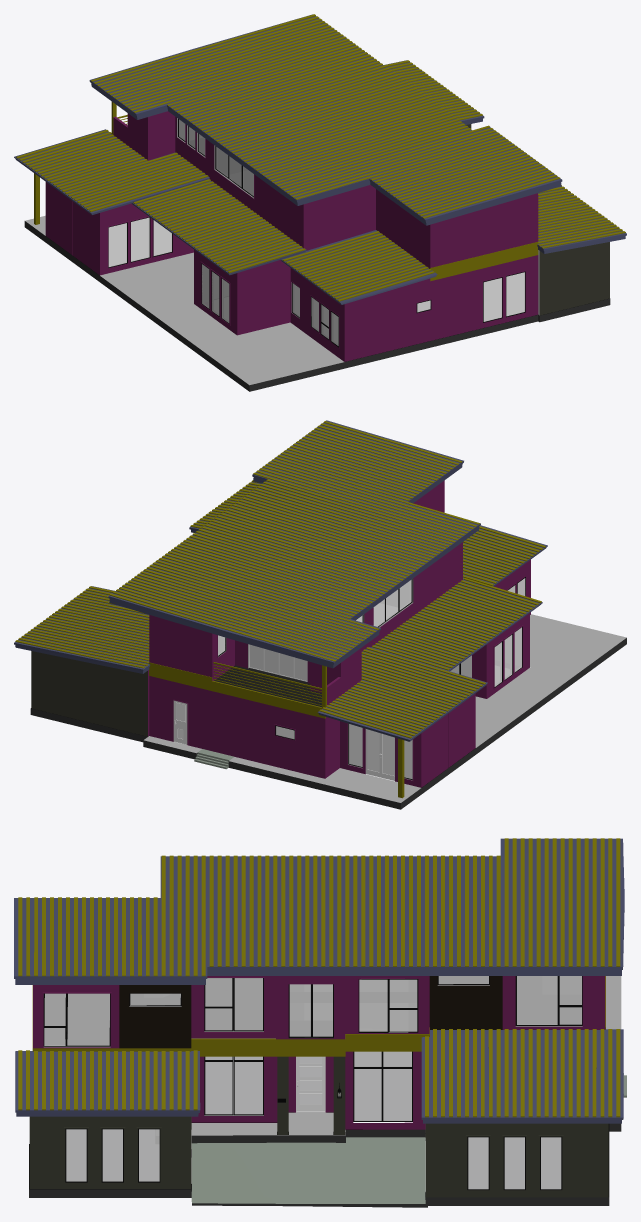
The model's file is BH_variant_5.glb.
3 renders of one model, top to bottom at view 1: azimuth 30°, elevation 25°; view 2: azimuth 150°, elevation 25°; view 3: azimuth 270°, elevation 25°, orthographic. The views are drawn at different scales.
Visible parts, largest first — view 1: ROOF.001, LF_EXT.001, TF_EXT.001, portico, WindowsBH, outermetal.001; view 2: ROOF.001, LF_EXT.001, portico, TF_EXT.001, WindowsBH, outermetal.001, TF_FLOOR, Outdoor_Door.001_d1, Door01_Support_d1.001, Laundry_Door_d1, Outdoor_Door_d1; view 3: ROOF.001, WindowsBH, LF_EXT.001, portico, TF_EXT.001, outermetal.001, Entrance_door_d1, FIREPLACE.001.
Boxes of the visible parts, x1,y1,x2,y2 form: ROOF.001: [14, 14, 626, 304]; LF_EXT.001: [45, 124, 609, 361]; TF_EXT.001: [113, 111, 538, 268]; portico: [24, 215, 610, 391]; WindowsBH: [108, 119, 525, 347]; outermetal.001: [429, 242, 538, 281]; ROOF.001: [14, 420, 547, 798]; LF_EXT.001: [31, 559, 530, 787]; portico: [30, 614, 626, 809]; TF_EXT.001: [149, 480, 462, 704]; WindowsBH: [218, 577, 525, 779]; outermetal.001: [149, 662, 325, 718]; TF_FLOOR: [214, 665, 321, 707]; Outdoor_Door.001_d1: [366, 729, 380, 777]; Door01_Support_d1.001: [249, 644, 307, 681]; Laundry_Door_d1: [173, 700, 187, 744]; Outdoor_Door_d1: [380, 733, 394, 780]; ROOF.001: [14, 838, 624, 1123]; WindowsBH: [43, 976, 582, 1190]; LF_EXT.001: [29, 1032, 608, 1197]; portico: [29, 976, 626, 1207]; TF_EXT.001: [33, 976, 605, 1048]; outermetal.001: [32, 976, 605, 1056]; Entrance_door_d1: [296, 1056, 325, 1112]; FIREPLACE.001: [44, 985, 582, 1115].
Bounding box in the file's own units: 24.33 × 8.6 × 25.06.
